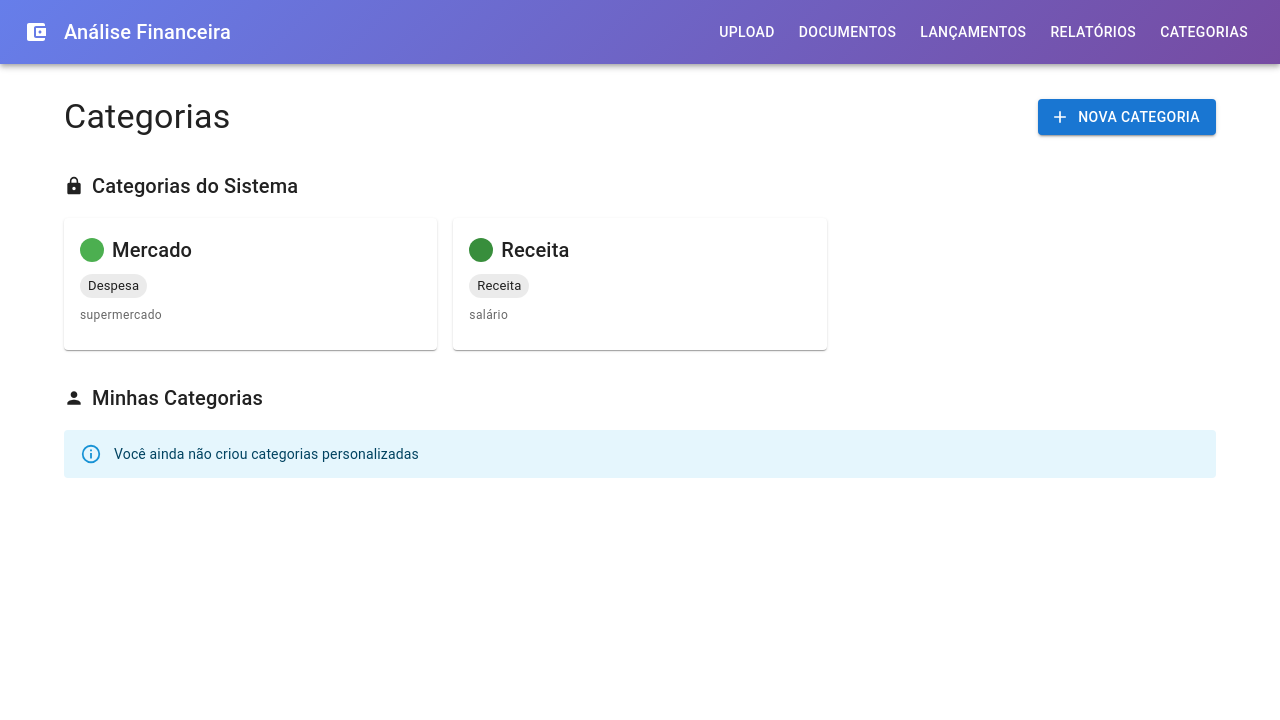
Test case: CategoriasPage › should show validation error when submitting empty form
Click the button "Nova Categoria" at (1127,117), box top-left (1038, 99), bottom-right (1216, 135)
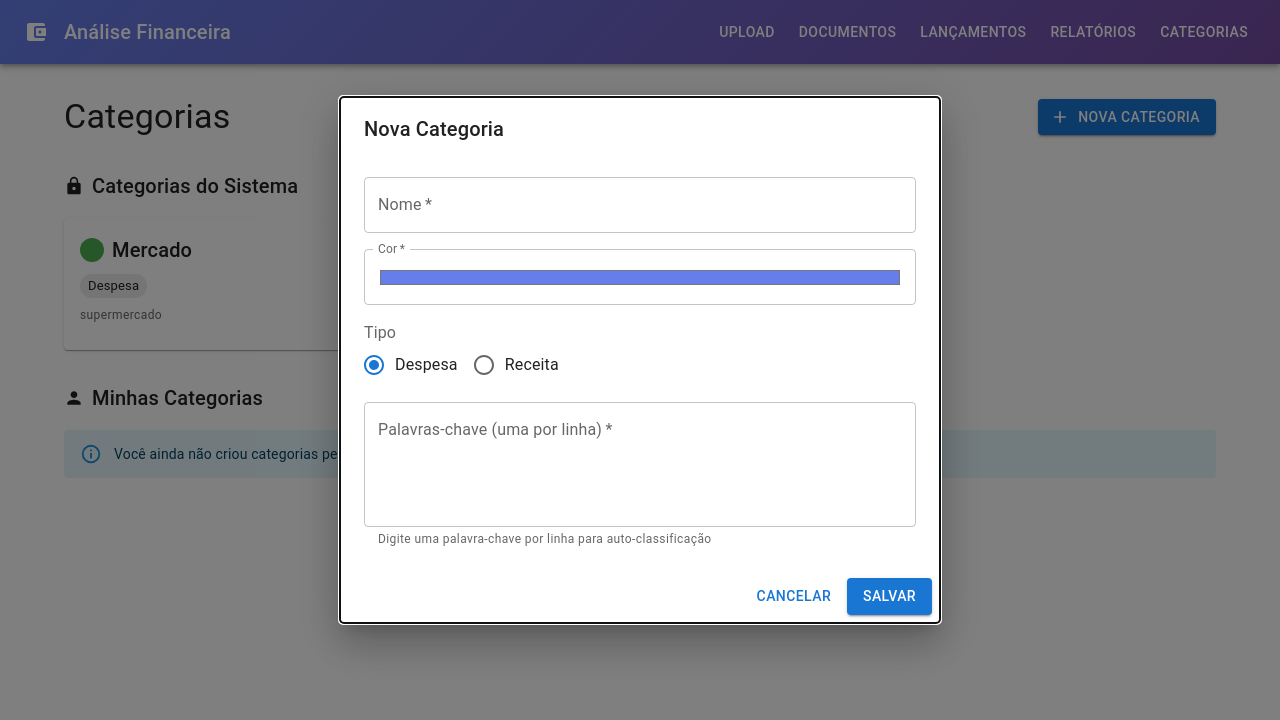
Now the button "Salvar" is shown
Click save without filling in data
Click the button "Salvar" at (890,596), box top-left (847, 578), bottom-right (932, 615)
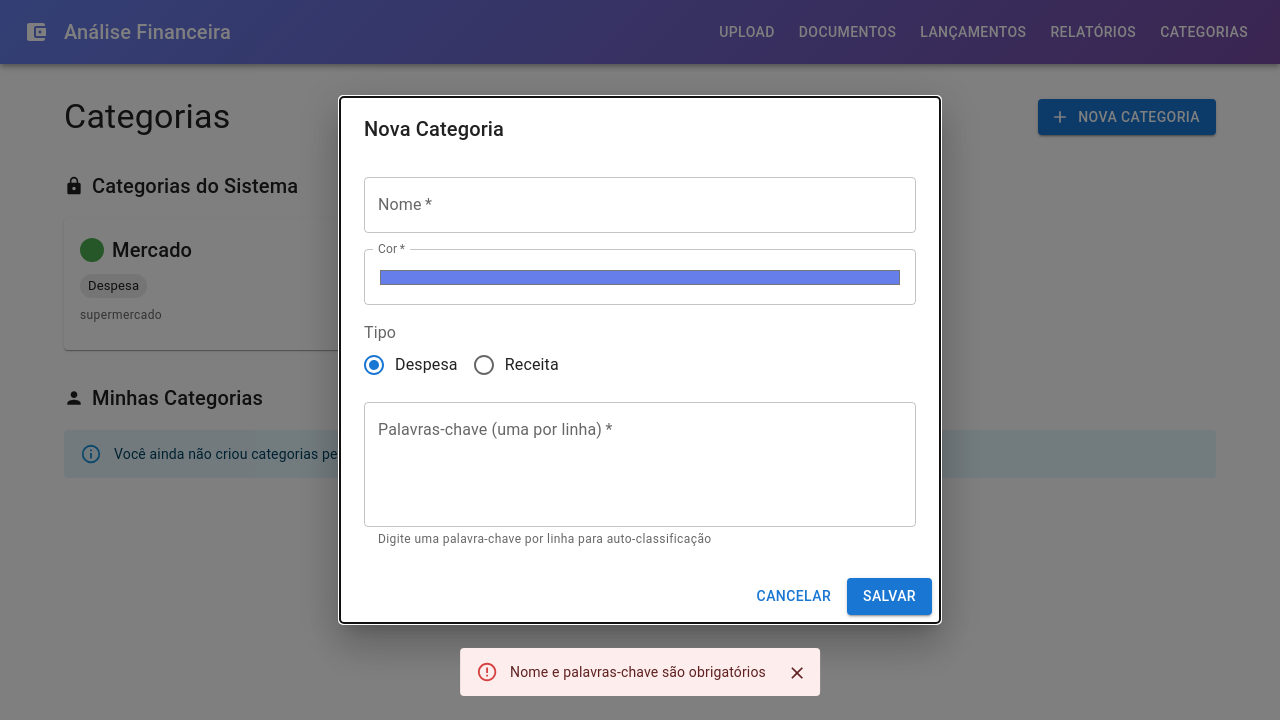
Now the text "Nome e palavras-chave são obrigatórios" is shown, box top-left (510, 664), bottom-right (766, 680)
